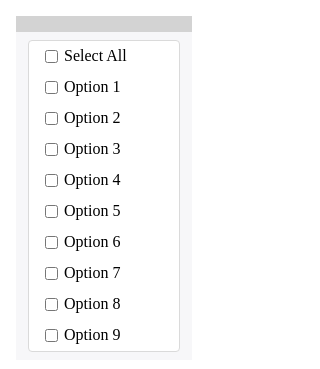
MultiCheck › Component Usability › should be functional without values prop being provided
The image size is (320, 369).
Click the text "Option 1".
click(92, 88)  # box [64,78,120,97]
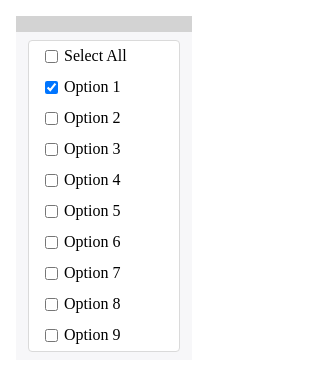
Result: the checkbox showing "1" is checked at [45,81,58,94]
Click the text "Option 2".
click(92, 118)  # box [64,109,120,128]
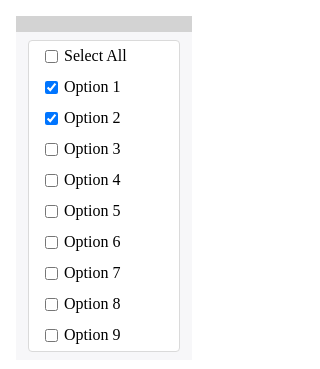
Result: the checkbox showing "2" is checked at [45,112,58,125]
